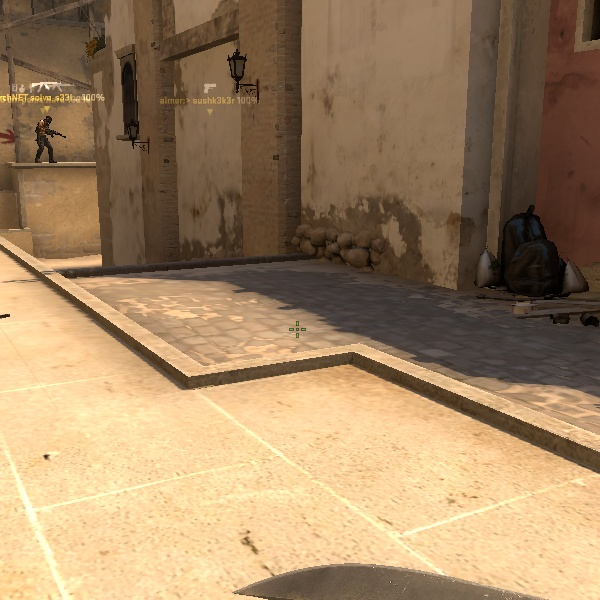t_body: (31, 111, 59, 162)
